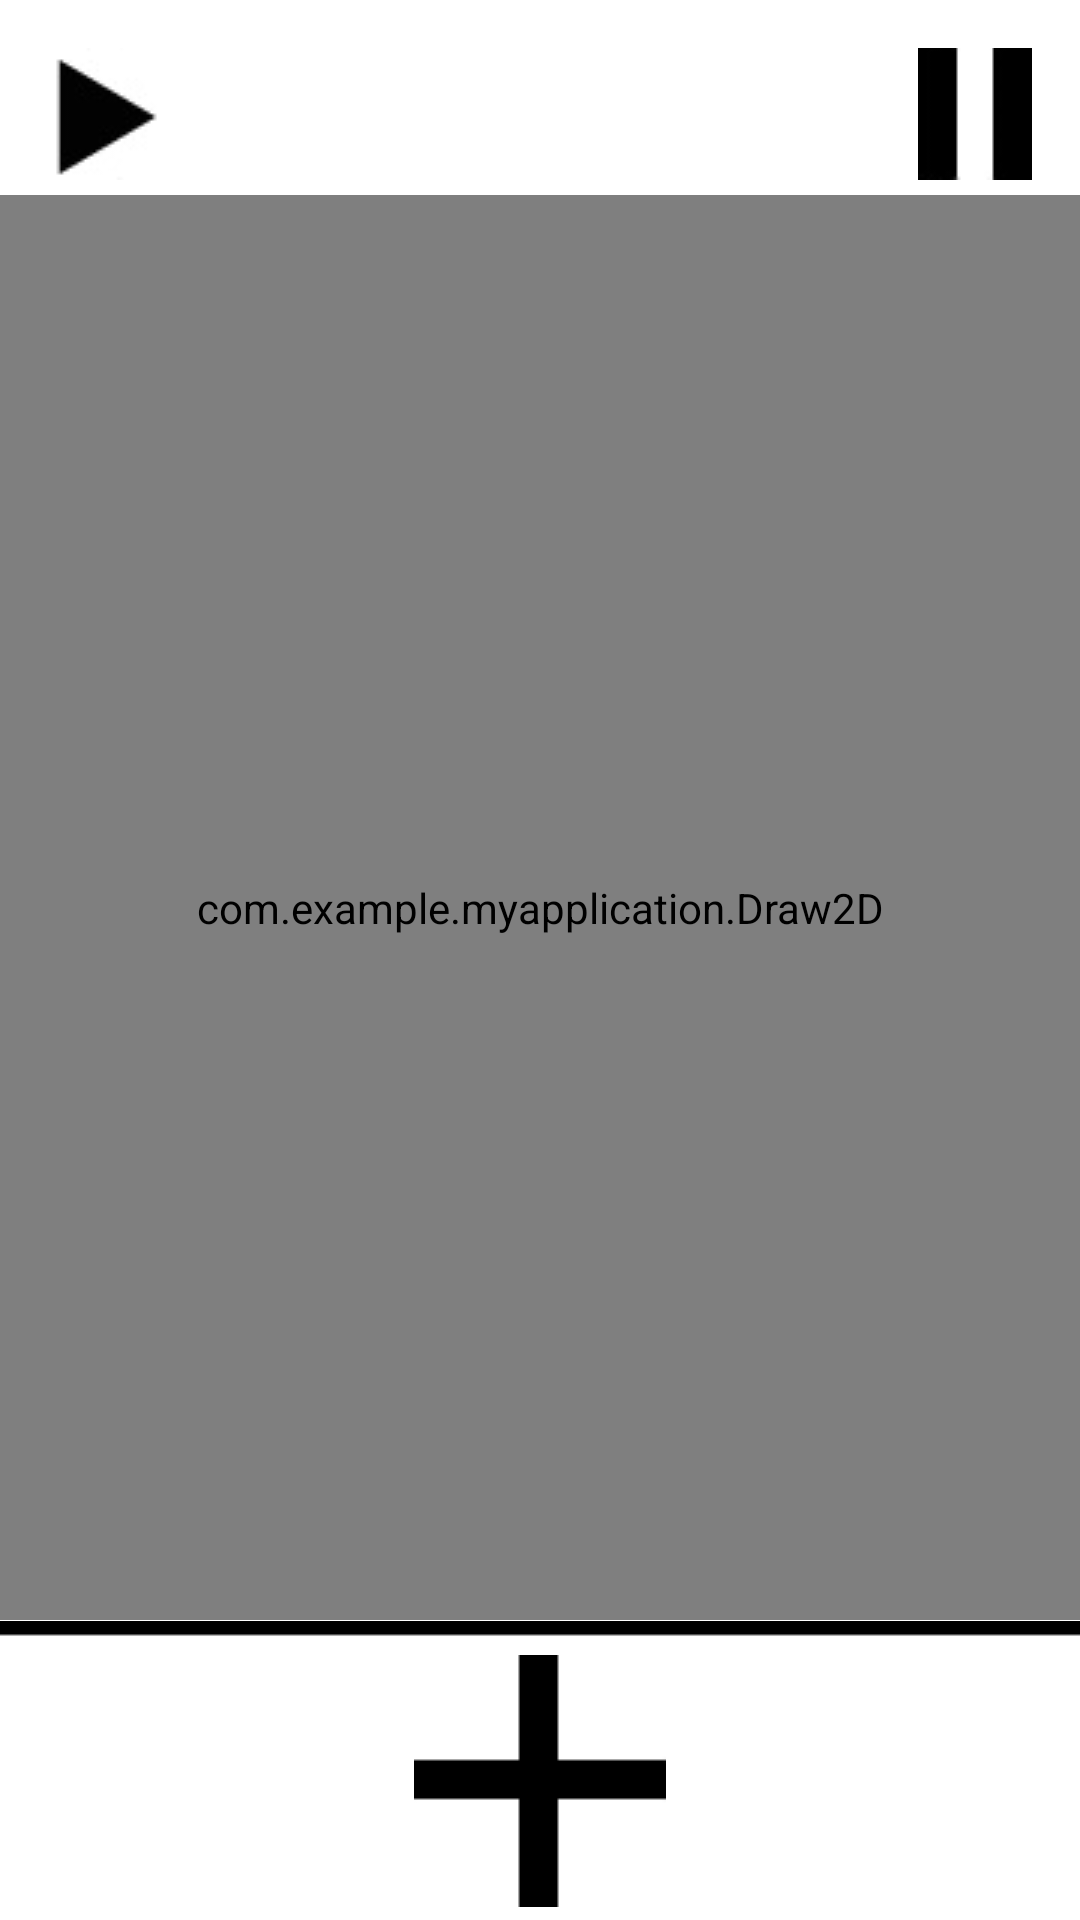

Locate icon controls on the screen. Image size 1080px×1920px, boxes as [x1,y1,x2,y2].
add function: [414,1655,666,1907]
pause: [918,48,1032,180]
run: [57,59,156,175]
